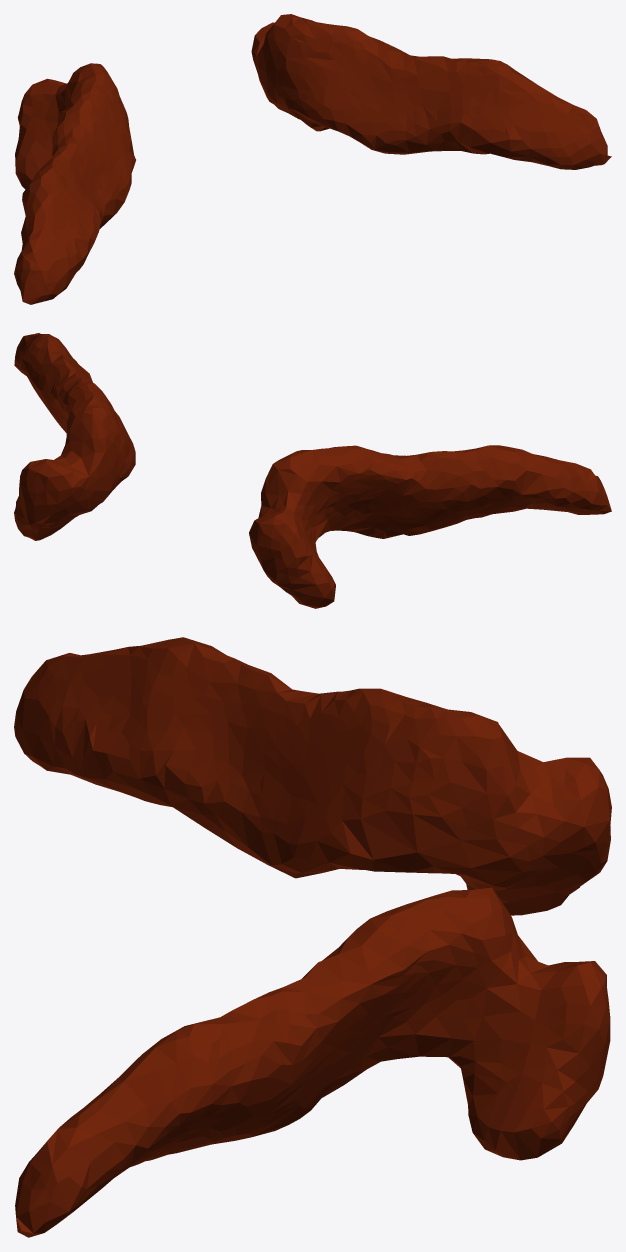
Rendered from 117-POaI-parietal area POa, internal part-('0.4980', '0.1333', '0.0000').obj.
3 views of the same model, one above another, from view 1: azimuth 30°, elevation 25°; view 2: azimuth 150°, elevation 25°; view 3: azimuth 270°, elevation 25° (orthographic). The views are drawn at different scales.
Size of the model in its own units: 224 by 47.62 by 110.
